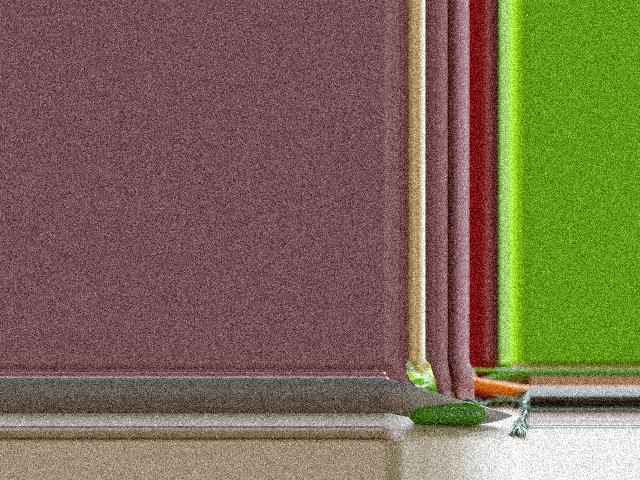cucumber: (410, 403, 485, 426)
